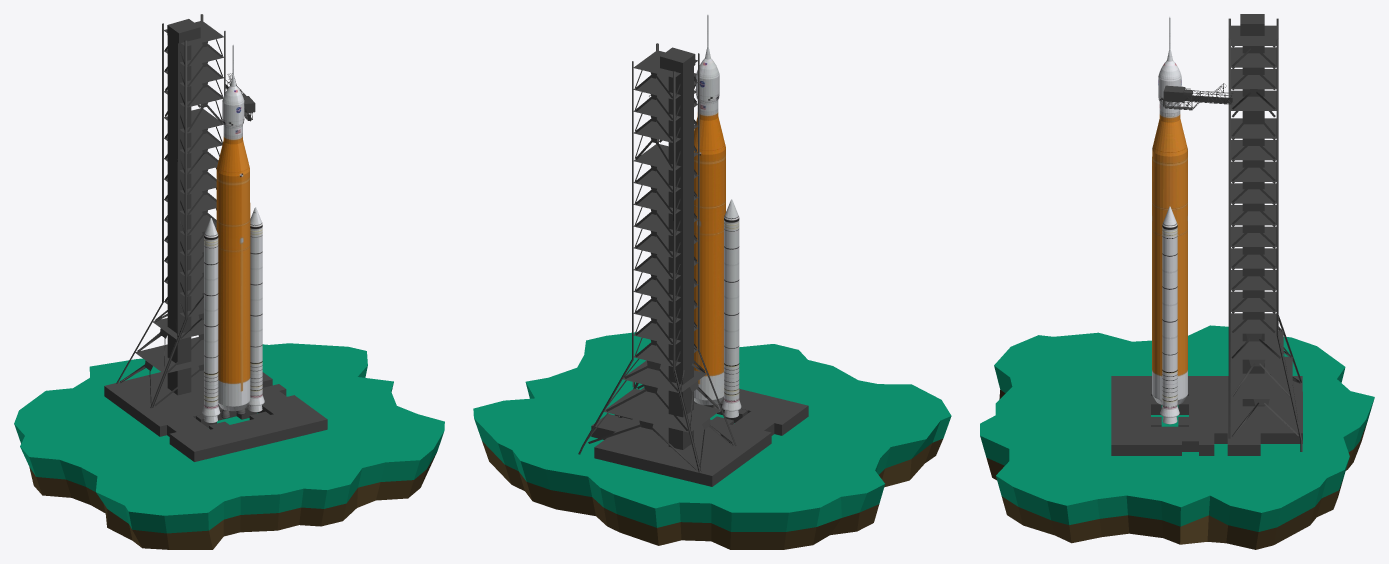
File: sls-block-1-v2.gltf
3 renders of one model, left to right at view 1: azimuth 30°, elevation 25°; view 2: azimuth 150°, elevation 25°; view 3: azimuth 270°, elevation 25°, orthographic. The views are drawn at different scales.
Parts seen in each view (by area): view 1: Cylinder.005, ML_HP.1302, Cylinder.007; view 2: Cylinder.005, ML_HP.1302, Cylinder.007; view 3: Cylinder.005, ML_HP.1302, Cylinder.007.
Boxes of the visible parts, x1,y1,x2,y2 form: Cylinder.005: [14, 343, 444, 549]; ML_HP.1302: [104, 14, 327, 461]; Cylinder.007: [202, 44, 264, 422]; Cylinder.005: [473, 332, 951, 549]; ML_HP.1302: [578, 43, 808, 486]; Cylinder.007: [694, 14, 741, 417]; Cylinder.005: [980, 325, 1374, 549]; ML_HP.1302: [1111, 14, 1302, 455]; Cylinder.007: [1152, 17, 1187, 424].
Size of the model in its own units: 8.06 by 8.98 by 7.18.
6 materials, 2 textured.
